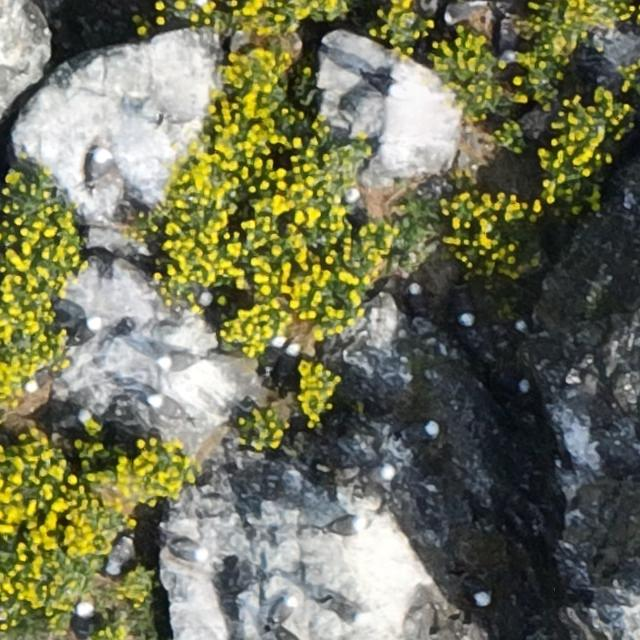umineko: (363, 456, 399, 489), (158, 347, 205, 372), (458, 293, 482, 330), (397, 422, 438, 443), (361, 73, 400, 95), (326, 599, 364, 621), (272, 338, 298, 368), (170, 541, 206, 562), (149, 396, 184, 417), (444, 3, 480, 23), (71, 320, 100, 343), (499, 23, 516, 61), (74, 601, 94, 633), (56, 410, 88, 429), (89, 149, 108, 181), (270, 598, 293, 624), (25, 367, 47, 392), (325, 518, 359, 534), (408, 284, 425, 312), (470, 586, 490, 606), (197, 290, 213, 308)
